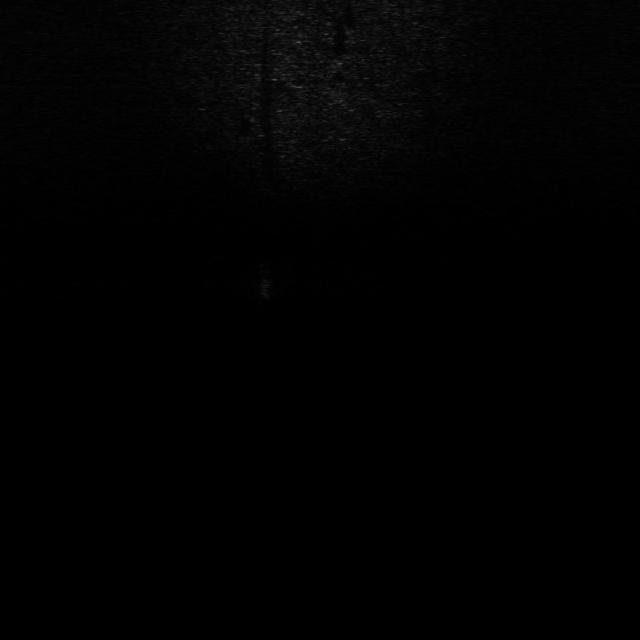human body: (250, 258, 280, 304)
